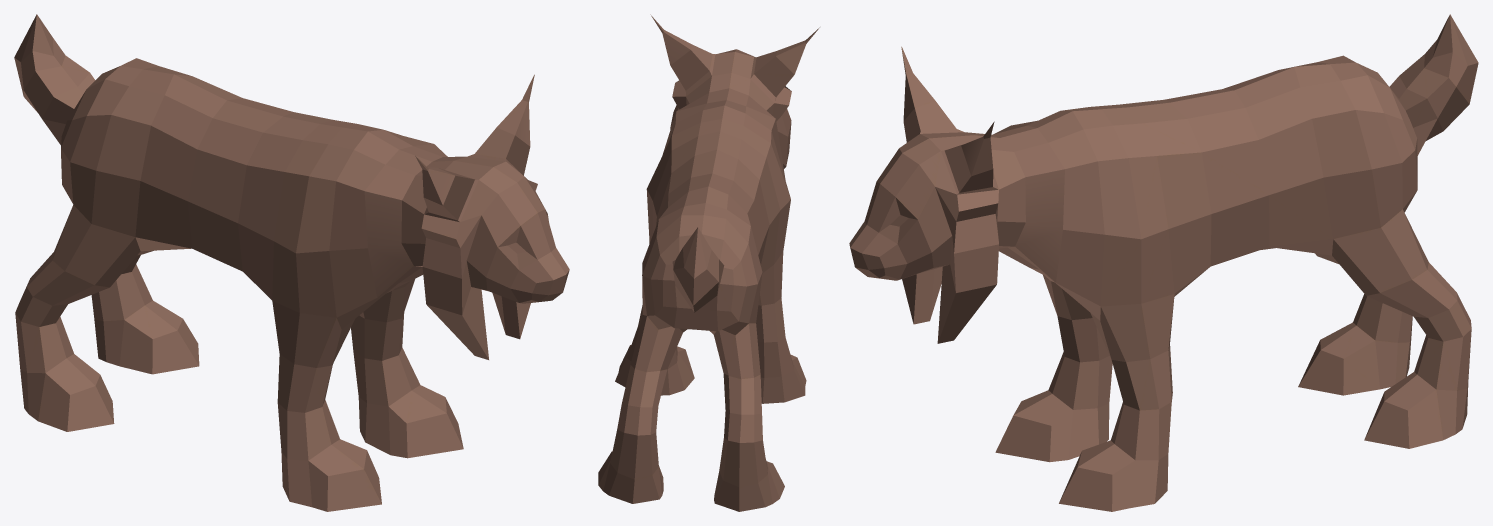
Rendered from Lynx.fbx.
The picture shows the model from 3 angles, left to right: view 1: azimuth 30°, elevation 25°; view 2: azimuth 150°, elevation 25°; view 3: azimuth 270°, elevation 25°; orthographic projection. The views are drawn at different scales.
Visible parts, largest first — view 1: node_id4; view 2: node_id4; view 3: node_id4.
Part boxes in pixels (x1,y1,x2,y2): node_id4: [14, 14, 569, 511]; node_id4: [598, 14, 819, 511]; node_id4: [849, 14, 1478, 511].
Bounding box in the file's own units: 0.2891 × 0.3321 × 0.4625.
Materials: 1 (1 with a texture image).
